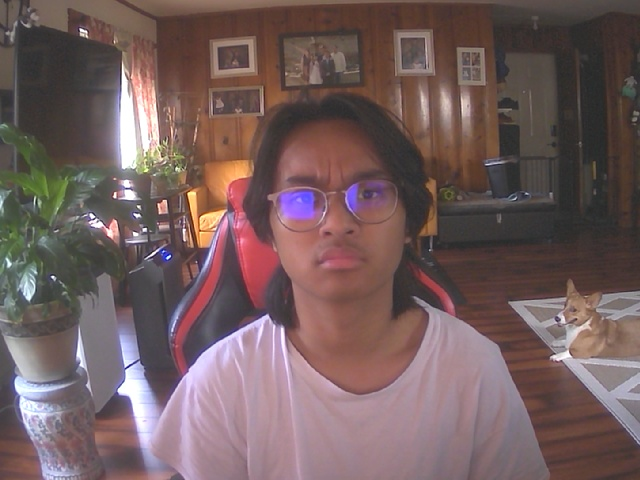anger: (268, 110, 421, 306)
